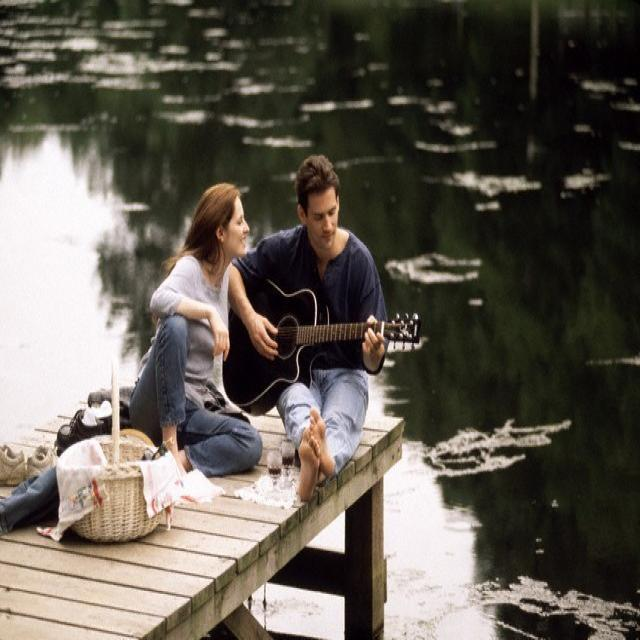guitar: (221, 272, 422, 417)
